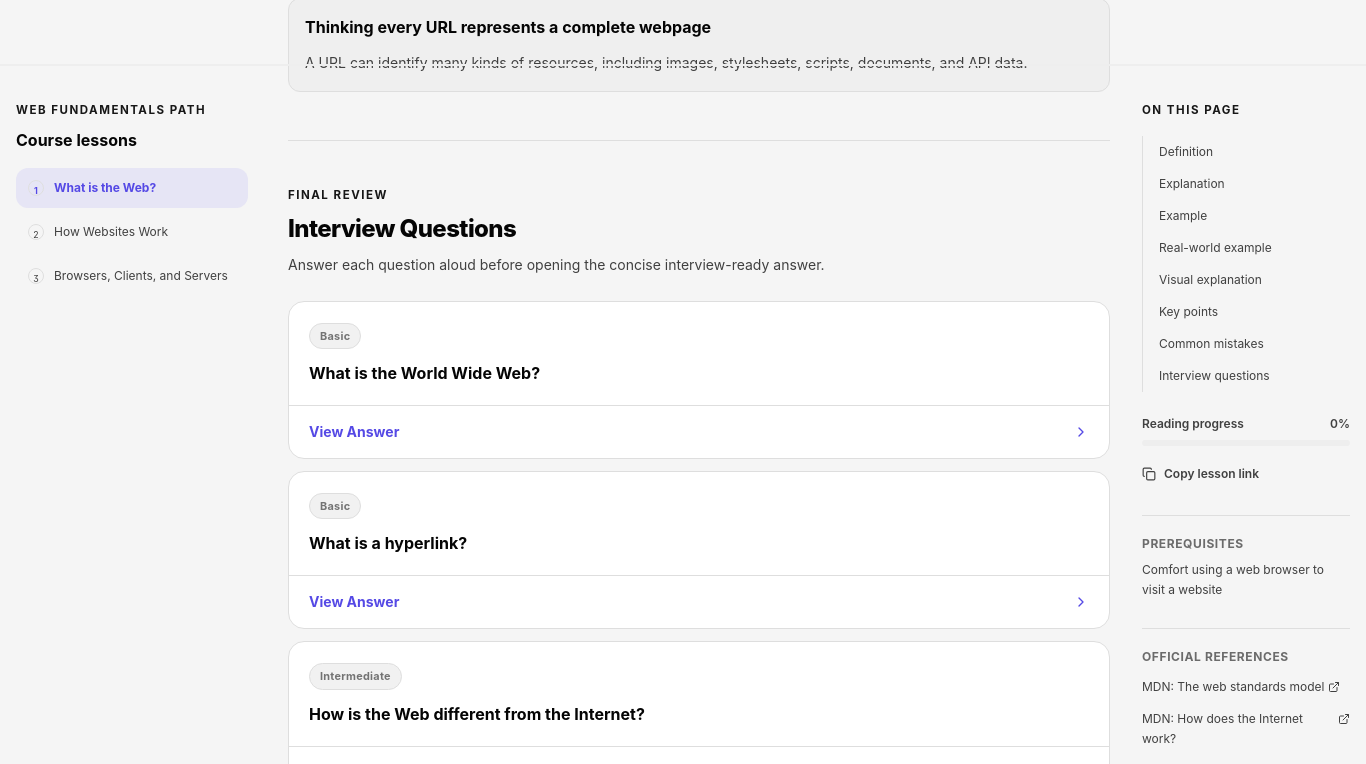
Scenario: TutorialDetailPage › keeps interview answers collapsed until the learner opens one
(page scrolled)
Click the text "View Answer" below "What is the World Wide Web?" at (354, 432), box x1=309 y1=422 x2=399 y2=442
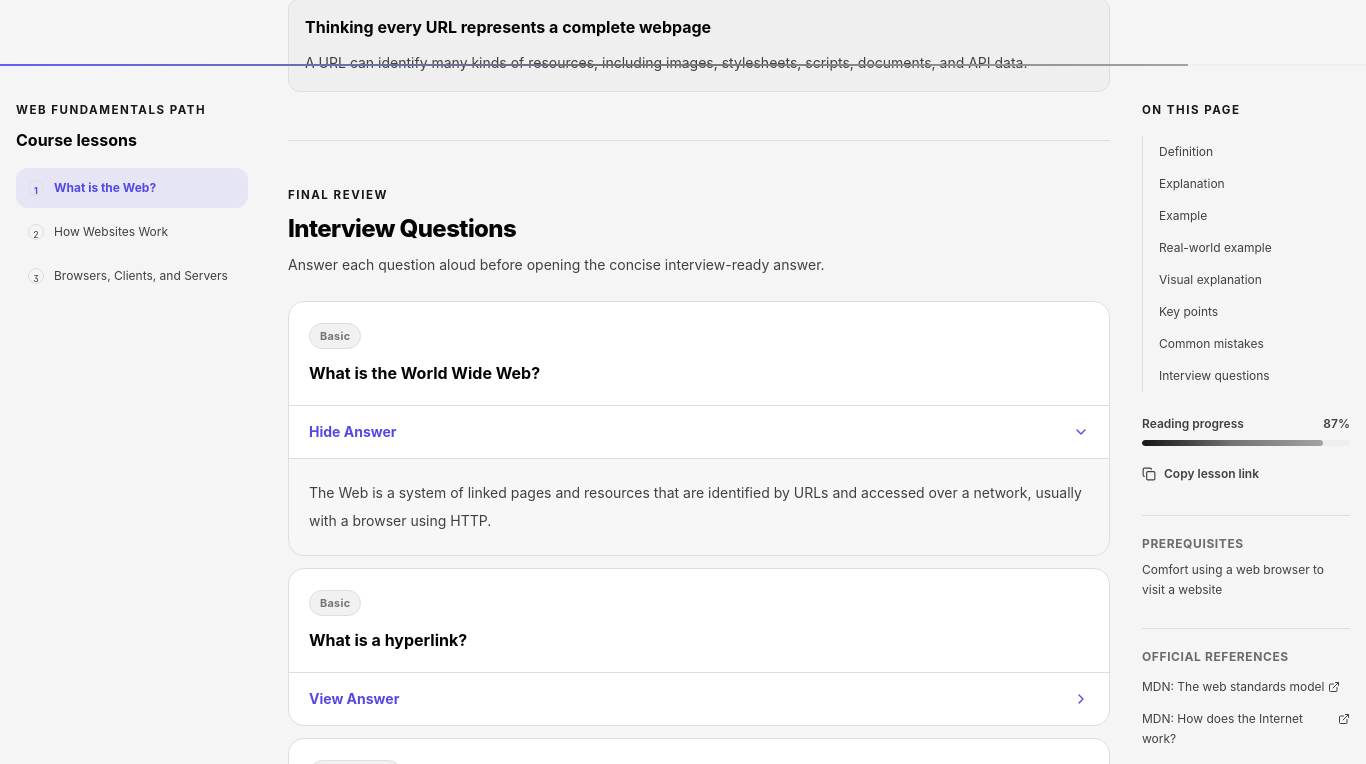
Check: the text "The Web is a system of linked pages and resources that are identified by URLs and accessed over a network, usually with " is shown, box x1=309 y1=484 x2=1082 y2=529
